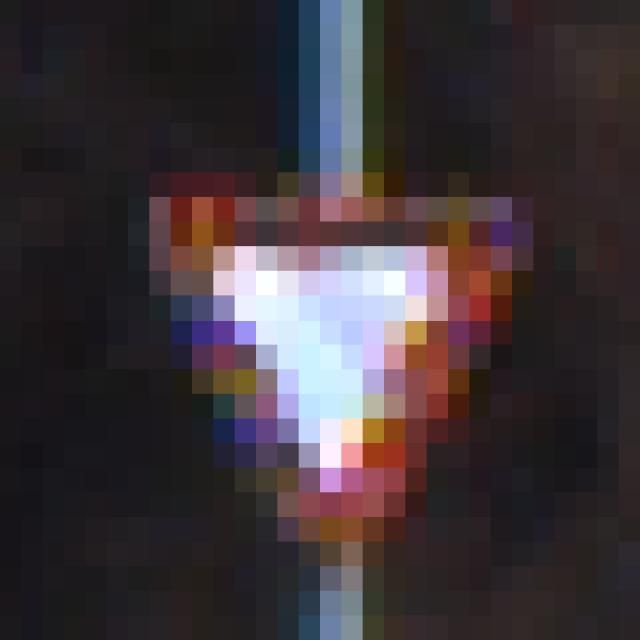Give Way: (108, 149, 534, 518)
